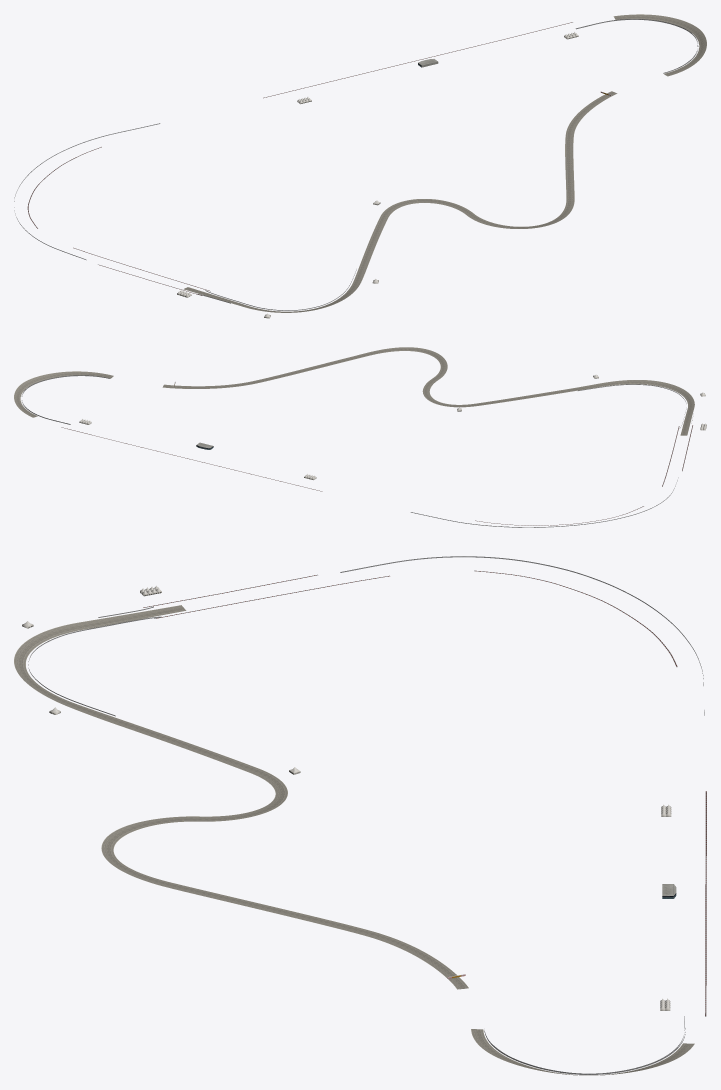
The picture shows the model from 3 angles, top to bottom: view 1: azimuth 30°, elevation 25°; view 2: azimuth 150°, elevation 25°; view 3: azimuth 270°, elevation 25°; orthographic projection. The views are drawn at different scales.
Parts seen in each view (by area): view 1: highspeedring2_2; view 2: highspeedring2_2; view 3: highspeedring2_2.
Boxes of the visible parts, left/top/right/bottom form: highspeedring2_2: left=14, top=14, right=706, bottom=318; highspeedring2_2: left=14, top=347, right=706, bottom=527; highspeedring2_2: left=14, top=556, right=706, bottom=1075.
Bounding box in the file's own units: 1485 × 18.77 × 839.
Materials: 6 (6 with a texture image).
